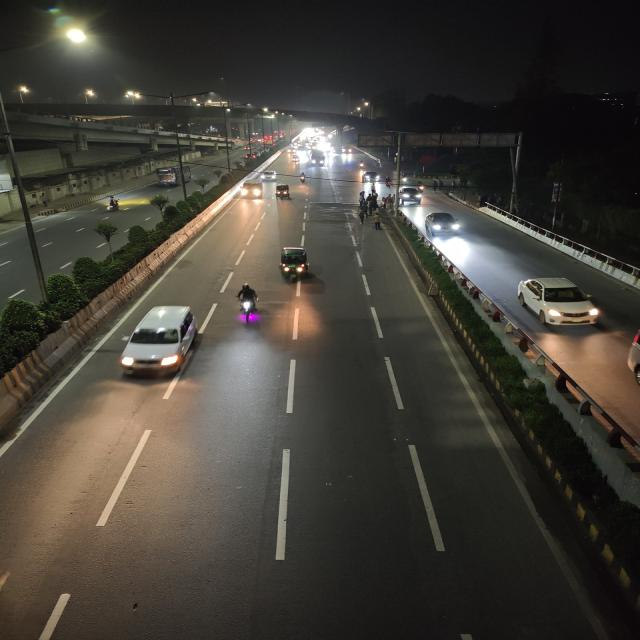bus: (154, 164, 194, 188), (310, 150, 328, 166)
car: (115, 300, 214, 382), (513, 273, 606, 332), (422, 209, 466, 238), (397, 186, 425, 204), (238, 181, 266, 198), (258, 170, 279, 182), (361, 171, 380, 183)
cng: (274, 244, 314, 286), (273, 182, 293, 200), (290, 154, 300, 164)
motorcycle: (230, 281, 266, 329), (148, 193, 172, 211), (104, 193, 123, 213), (296, 173, 308, 185), (383, 176, 394, 188)
pedestrian: (369, 211, 384, 231), (366, 190, 381, 208), (382, 194, 396, 212)
